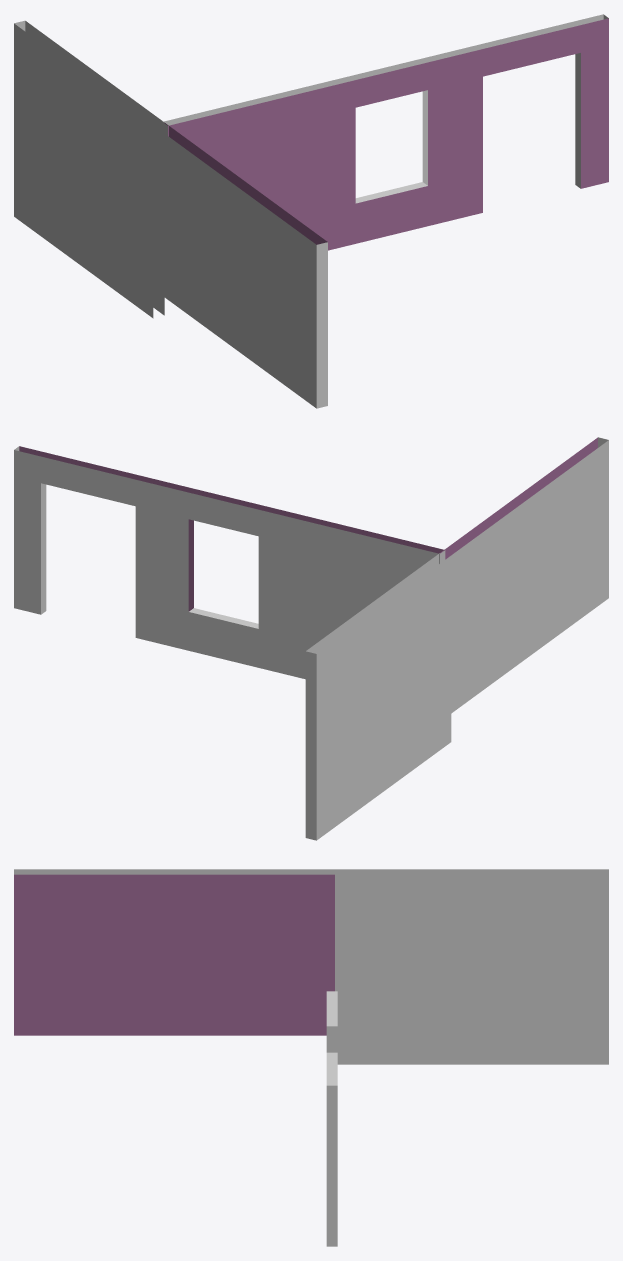
The model's file is Pared 4.fbx.
3 renders of one model, top to bottom at view 1: azimuth 30°, elevation 25°; view 2: azimuth 150°, elevation 25°; view 3: azimuth 270°, elevation 25°, orthographic. The views are drawn at different scales.
Visible parts, largest first — view 1: Pared_4; view 2: Pared_4; view 3: Pared_4.
Boxes of the visible parts, left/top/right/bottom form: Pared_4: left=14, top=14, right=608, bottom=408; Pared_4: left=14, top=437, right=608, bottom=840; Pared_4: left=14, top=869, right=608, bottom=1246.
Bounding box in the file's own units: 864 × 354 × 1004.
